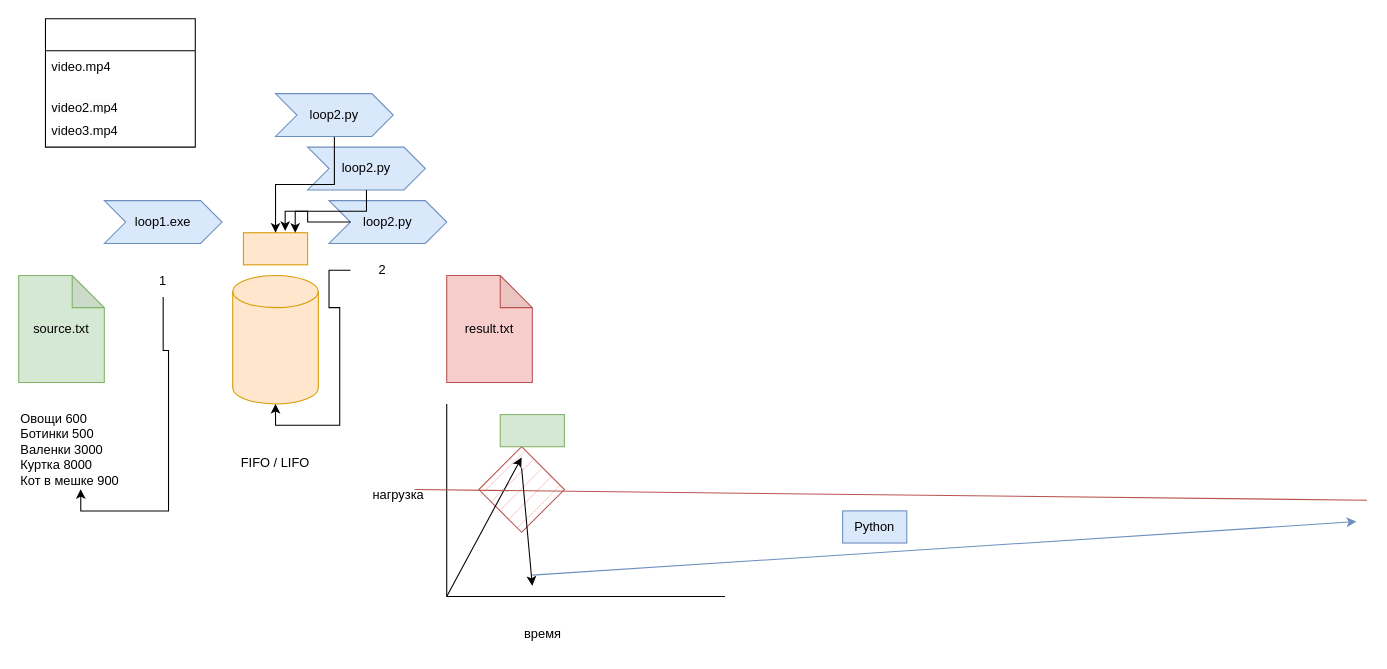
Image size: 1387x669. Some labels were removed from this diagram. Here are the shapes that lost their labels. From the top down, the box of each, then its label:
(44, 18, 195, 147): List
(242, 232, 308, 265): queu
(232, 274, 318, 404): sqlite3.db
(499, 414, 564, 447): Golang
